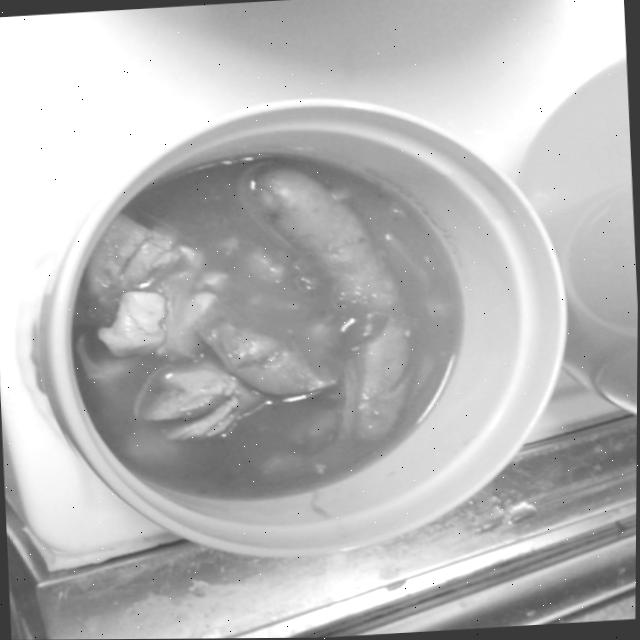汤锅炖物: (48, 125, 502, 509)
